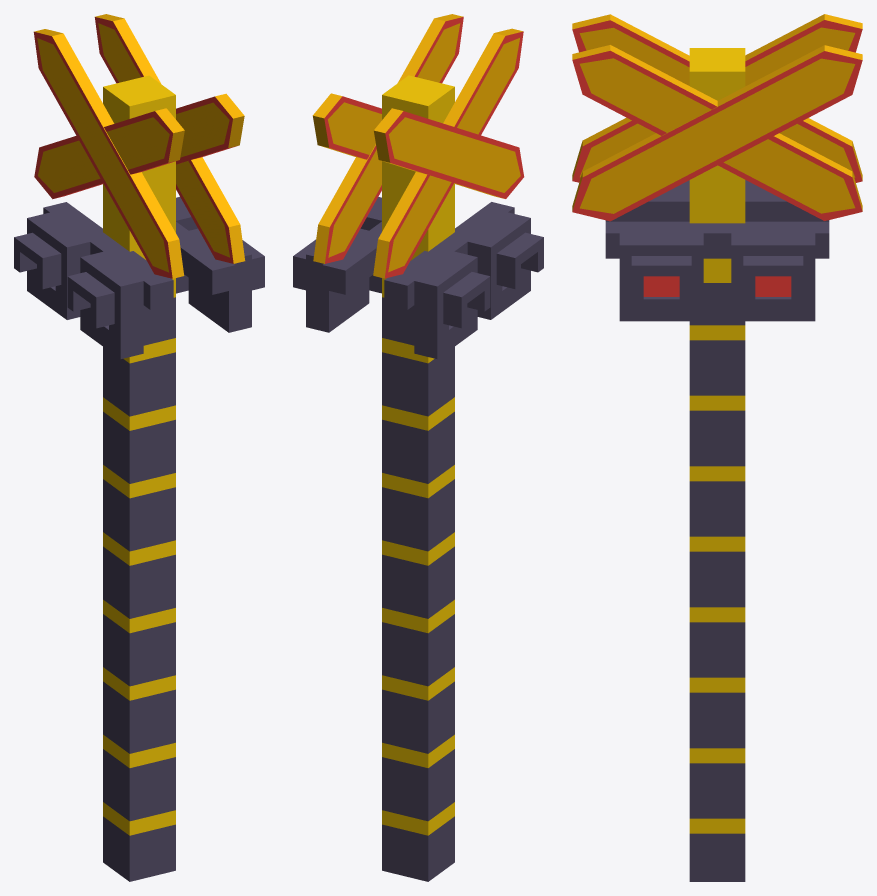
File: trafficlight_kereta_2.fbx
The picture shows the model from 3 angles, left to right: view 1: azimuth 30°, elevation 25°; view 2: azimuth 150°, elevation 25°; view 3: azimuth 270°, elevation 25°; orthographic projection. The views are drawn at different scales.
Visible parts, largest first — view 1: Cube.093; view 2: Cube.093; view 3: Cube.093.
Boxes of the visible parts, left/top/right/bottom form: Cube.093: left=14, top=14, right=264, bottom=881; Cube.093: left=293, top=14, right=543, bottom=881; Cube.093: left=572, top=14, right=862, bottom=881.
Bounding box in the file's own units: 182 × 827 × 260.
Materials: 1 (1 with a texture image).
